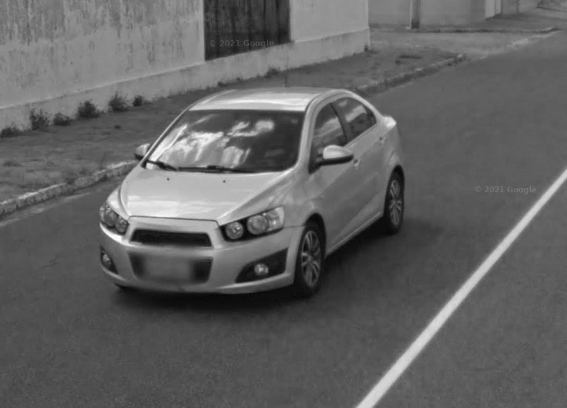car: (93, 71, 412, 310)
